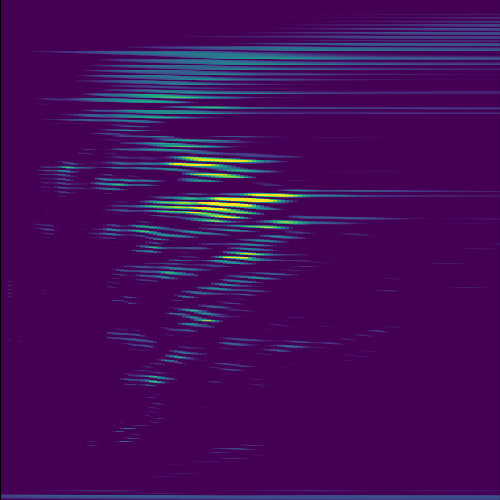semblance: (173, 190, 310, 224), (157, 156, 279, 179)
